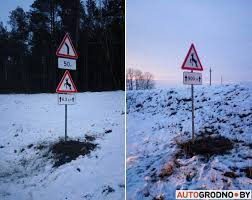1.11.2: (53, 28, 79, 57)
1.25: (180, 42, 204, 69), (54, 72, 79, 92)
